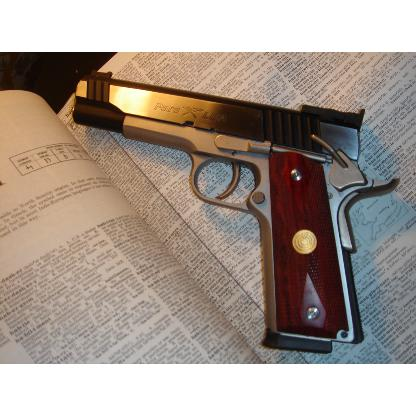gun: (70, 69, 402, 353)
